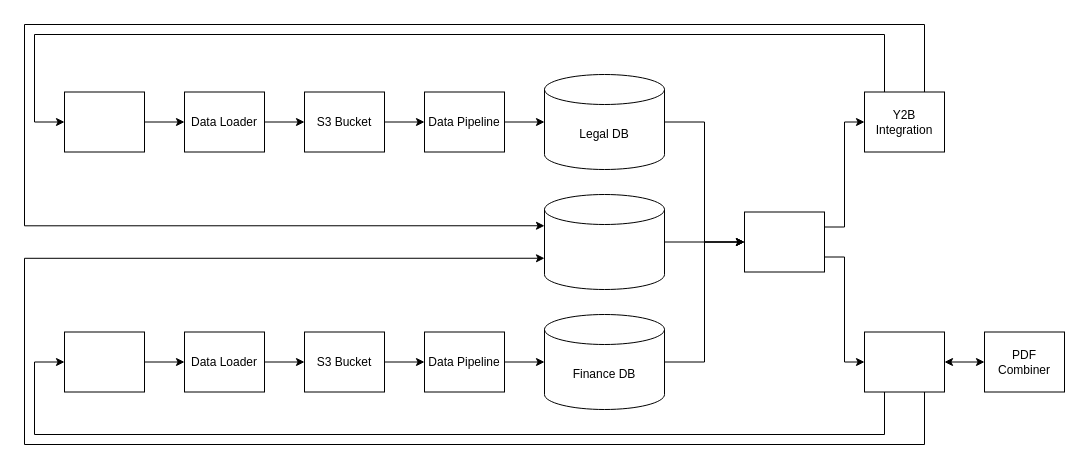
Some shapes in this 1082 by 470 pixel diagram are drawn without their labels. Here are the shapes that lost their labels. From the top down, the box of each, then its label:
(64, 91, 144, 152): BrightFlag API
(544, 194, 664, 290): Integration DB
(744, 211, 824, 272): Integration Views
(64, 331, 144, 392): Yooz API
(864, 331, 944, 392): B2Y Integration
